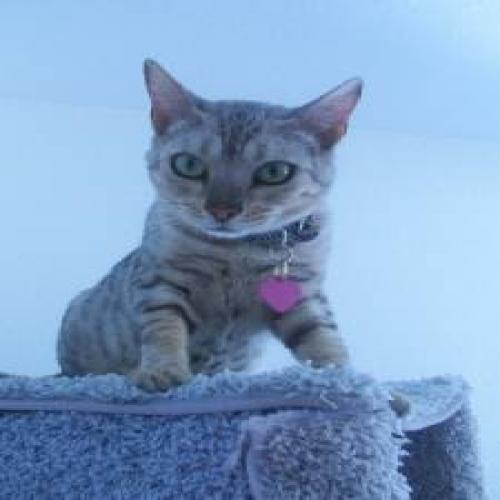bengal: (129, 53, 370, 240)
